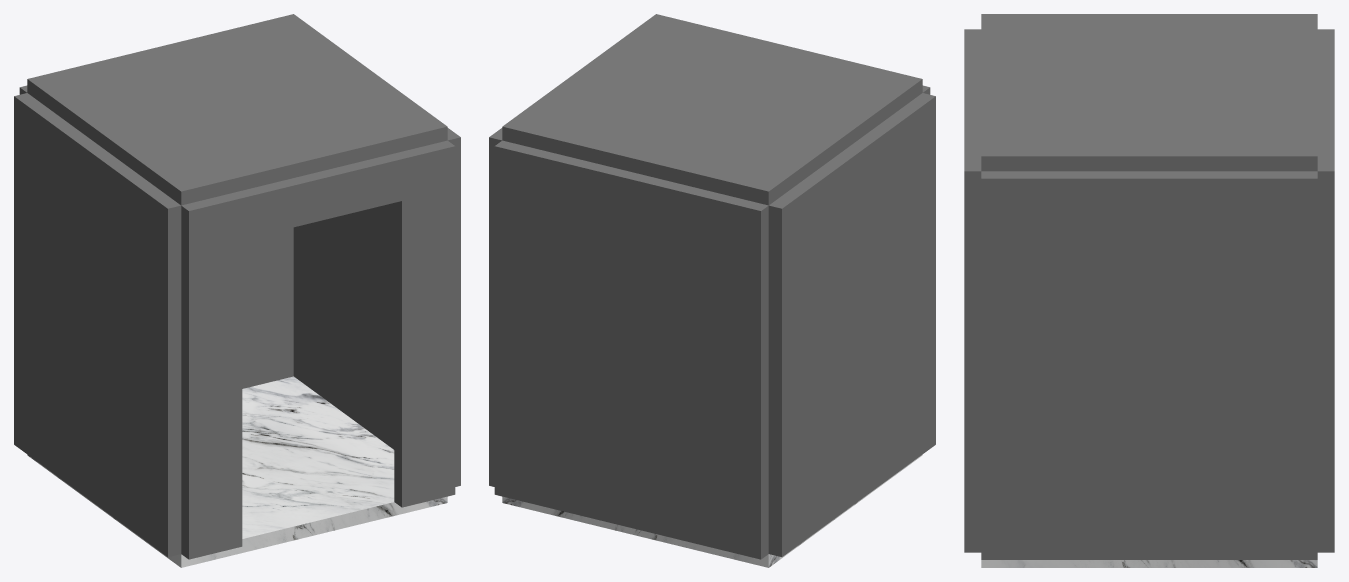
The model's file is elevator.obj.
3 views of the same model, side by side, from view 1: azimuth 30°, elevation 25°; view 2: azimuth 150°, elevation 25°; view 3: azimuth 270°, elevation 25° (orthographic). The views are drawn at different scales.
Parts seen in each view (by area): view 1: ewall, ceiling, wwall, floor, nwalle, nwallw, nwallt, swall; view 2: swall, ewall, ceiling, floor, wwall; view 3: wwall, ceiling, swall, nwallw, nwallt, floor.
Boxes of the visible parts, <box> form: ewall: <box>14,93,181,556</box>; ceiling: <box>27,14,447,205</box>; wwall: <box>293,128,460,486</box>; floor: <box>27,376,447,567</box>; nwalle: <box>181,240,242,559</box>; nwallw: <box>394,188,455,507</box>; nwallt: <box>181,140,455,252</box>; swall: <box>19,85,293,388</box>; swall: <box>494,140,768,559</box>; ewall: <box>768,93,935,556</box>; ceiling: <box>502,14,922,205</box>; floor: <box>502,454,922,567</box>; wwall: <box>489,128,502,486</box>; wwall: <box>981,171,1317,559</box>; ceiling: <box>981,14,1317,171</box>; swall: <box>1317,29,1334,552</box>; nwallw: <box>964,217,981,552</box>; nwallt: <box>964,29,981,217</box>; floor: <box>981,560,1317,567</box>.
Bounding box in the file's own units: 2.2 × 2.7 × 2.2.
